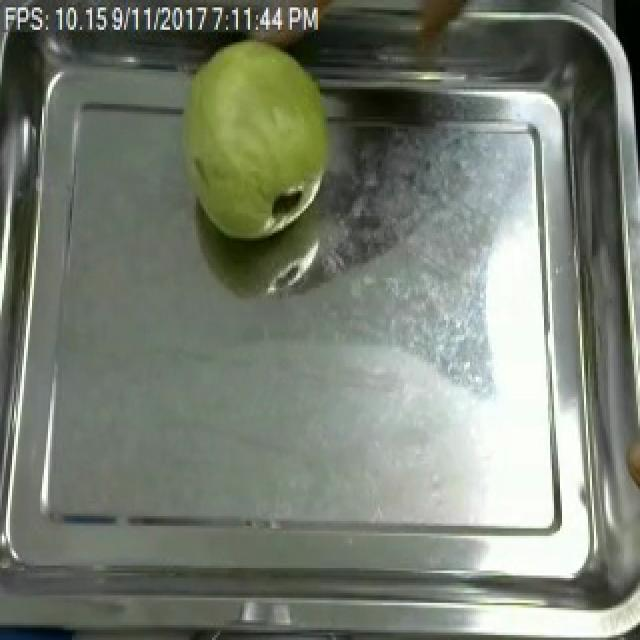Fruit: (166, 25, 344, 248)
